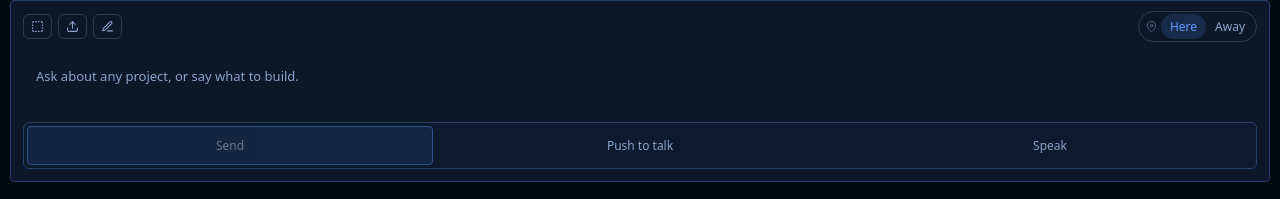
…and every way back out of it, so the composer cannot wedge › CHOOSING from the picker releases it — the one-gesture path
Type "@Krak" into the text box named "Message" at point(640, 85), box x1=23 y1=56 x2=1257 y2=114
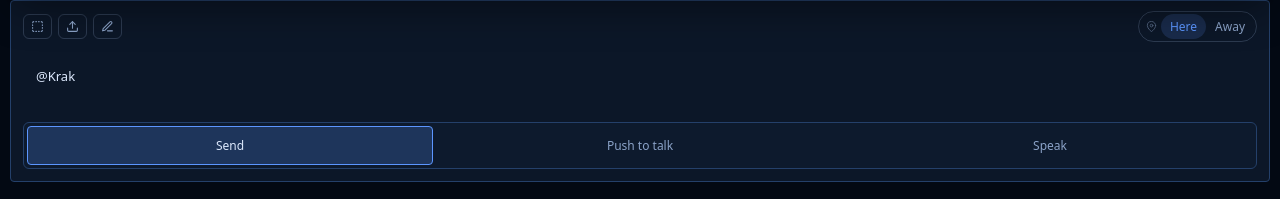
Press Enter in the dropdown named "Message", box x1=23 y1=56 x2=1257 y2=114
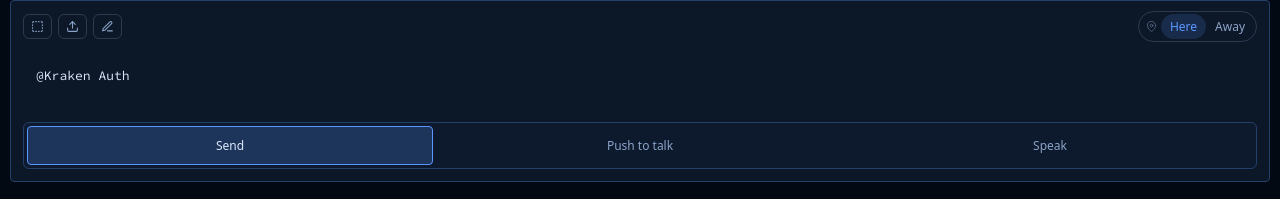
Result: the text box named "Message" holds "@Kraken Auth " at x1=23 y1=56 x2=1257 y2=114
